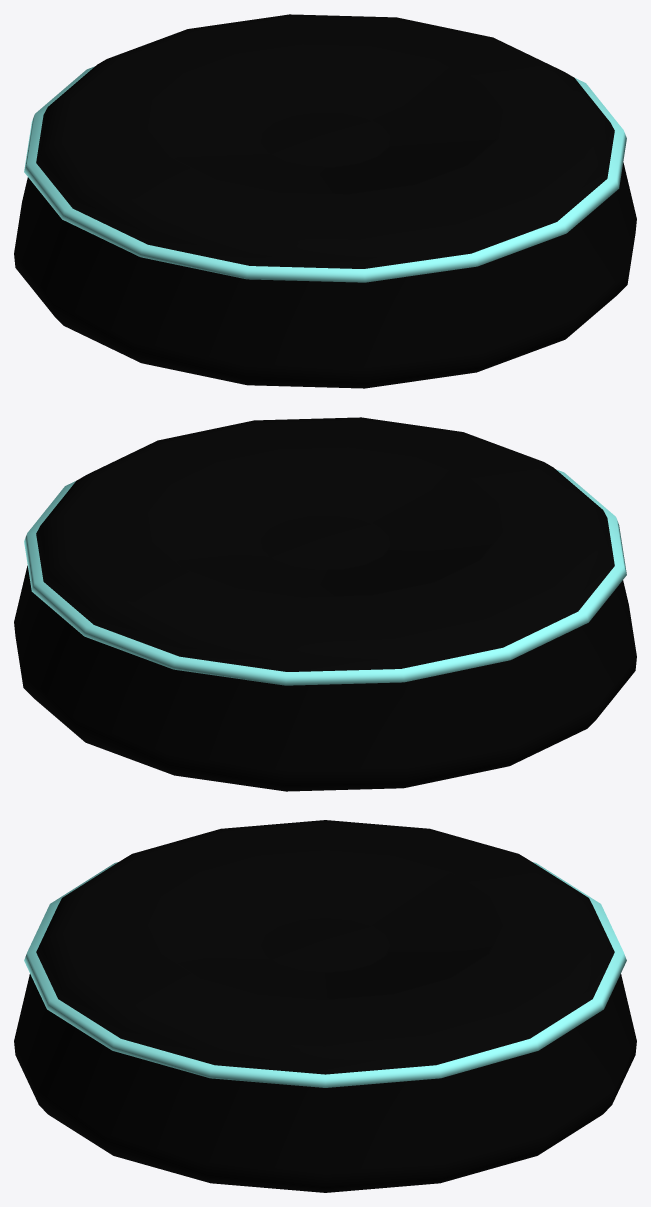
Rendered from MEC0110011.fbx.
3 renders of one model, top to bottom at view 1: azimuth 30°, elevation 25°; view 2: azimuth 150°, elevation 25°; view 3: azimuth 270°, elevation 25°, orthographic.
Parts seen in each view (by area): view 1: smMEC0110011; view 2: smMEC0110011; view 3: smMEC0110011.
Boxes of the visible parts, left/top/right/bottom form: smMEC0110011: left=14, top=14, right=636, bottom=388; smMEC0110011: left=14, top=417, right=636, bottom=791; smMEC0110011: left=14, top=820, right=636, bottom=1192.
Size of the model in its own units: 202 by 51.94 by 202.
Materials: 1 (1 with a texture image).
